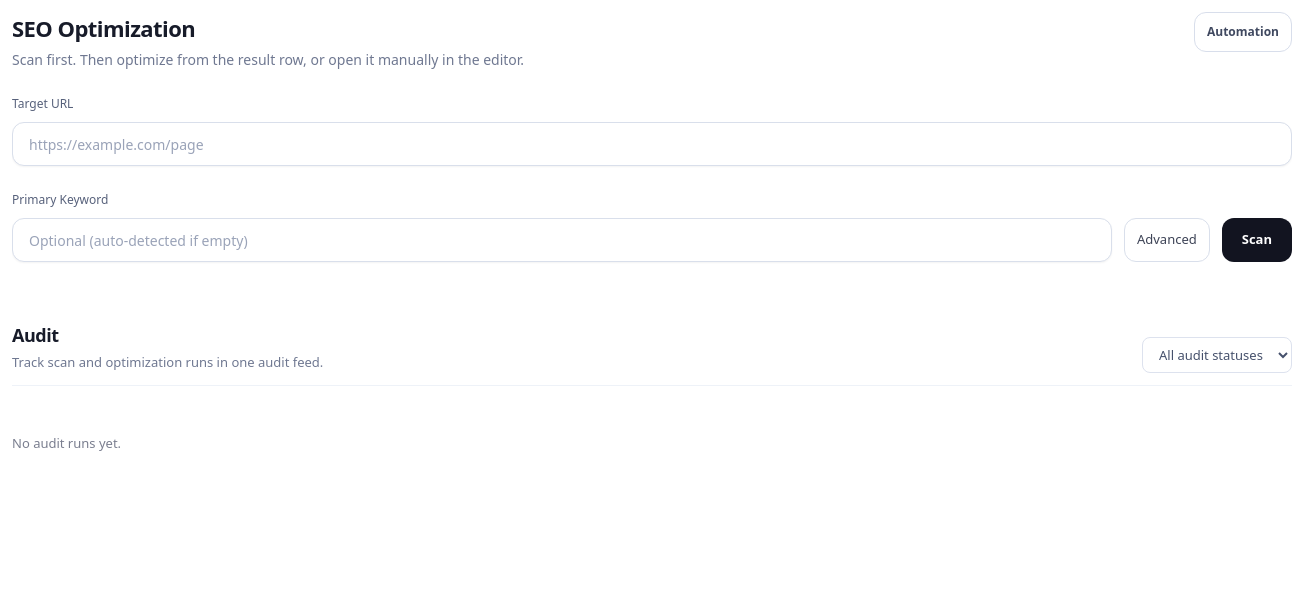
Test case: Dashboard scan flow › submits a scan and renders it in history
In the field labelled "Target URL": (652, 144) [12,122,1292,166], type "https://example.com/new-page"
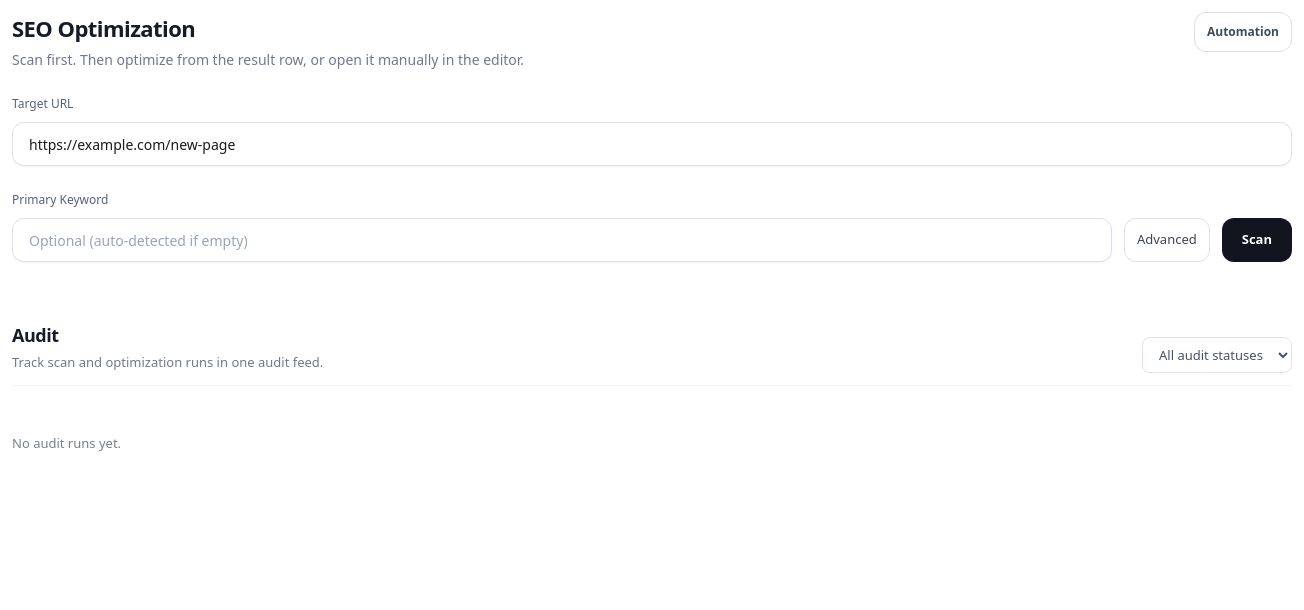
In the field labelled "Primary Keyword": (562, 240) [12,218,1112,262], type "new keyword"
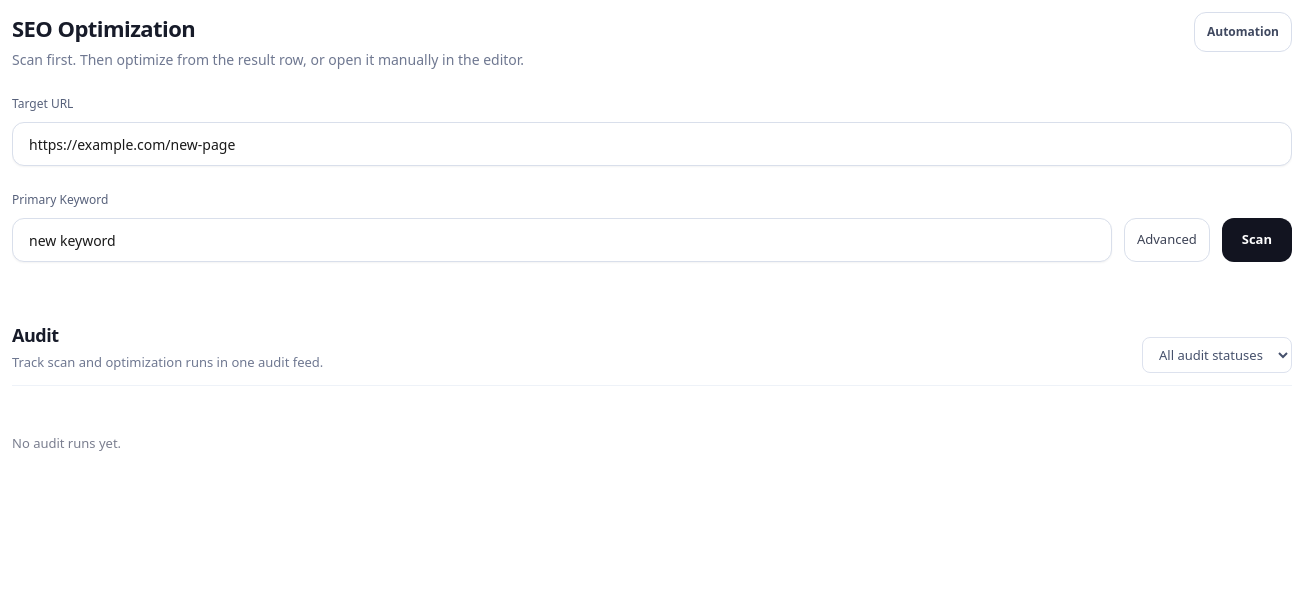
Click the button "Scan": (1257, 240) [1222,218,1292,262]
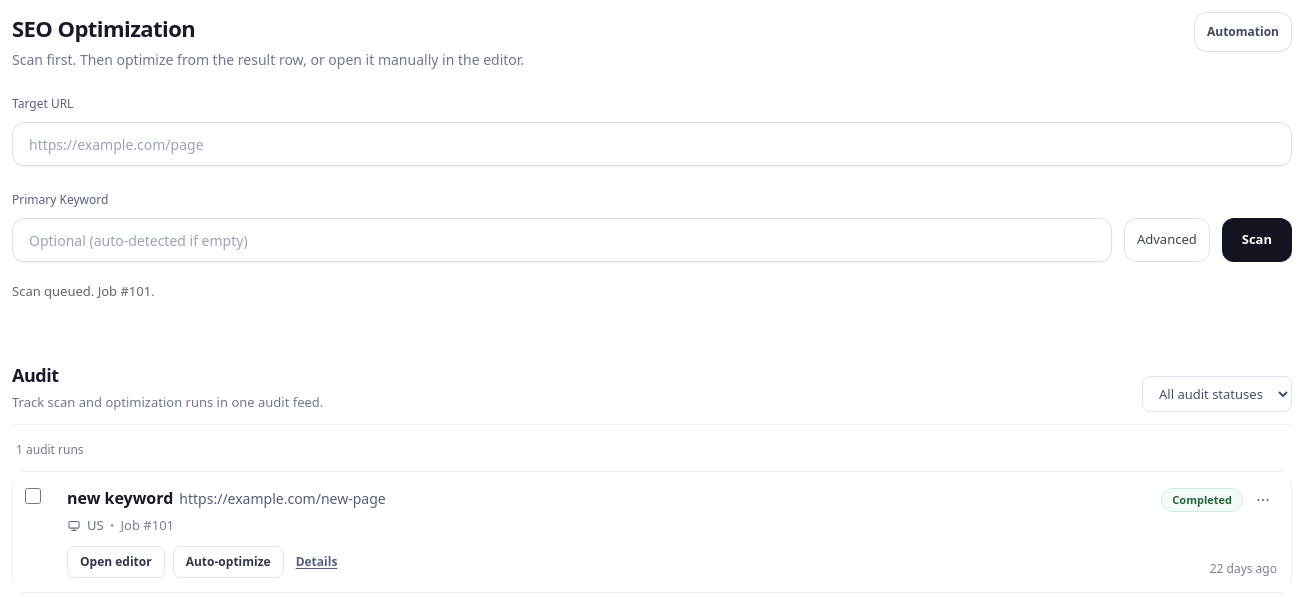
Result: the text "Scan queued. Job #101." is shown at [12,282,155,300]
Result: the text "https://example.com/new-page" is shown at [179,488,386,509]
